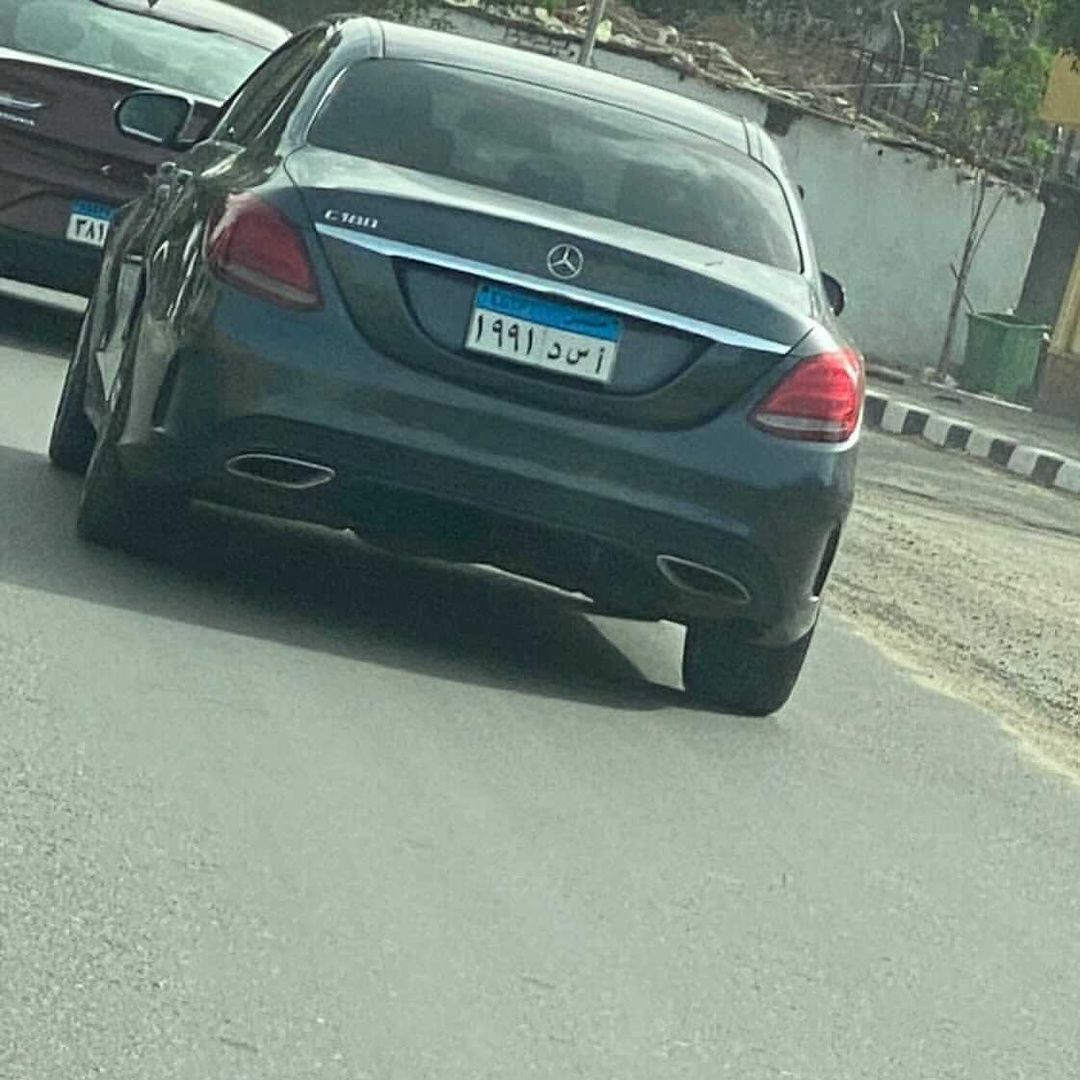carpl: (456, 265, 632, 397)
